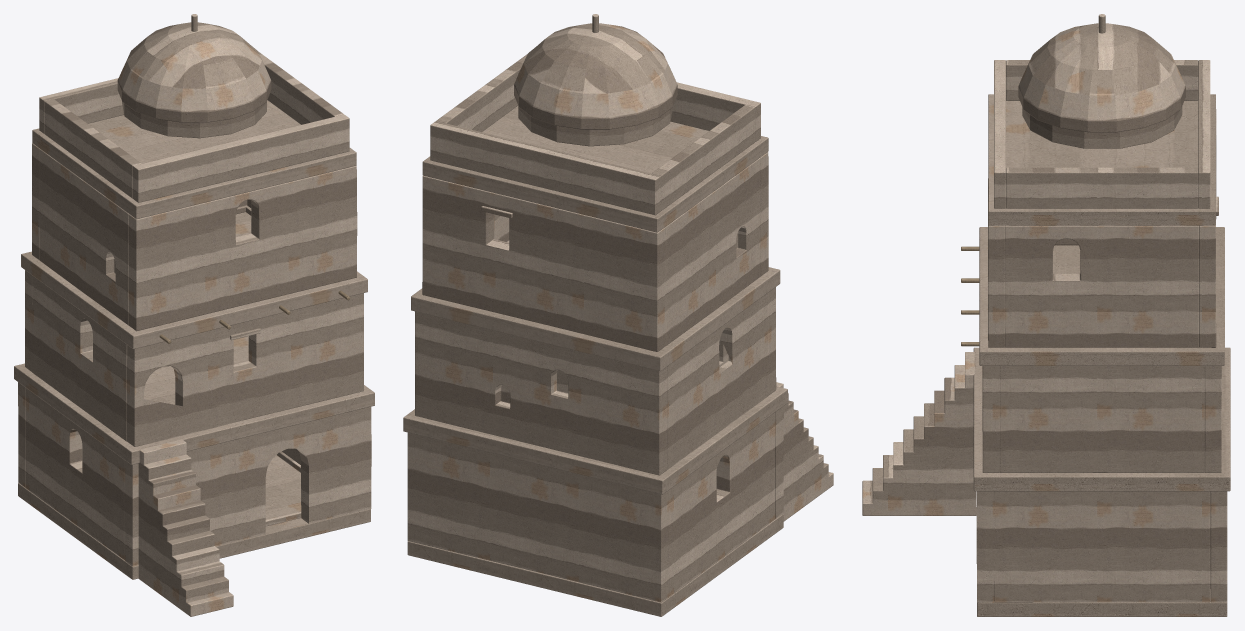
File: tower_23.glb
3 renders of one model, left to right at view 1: azimuth 30°, elevation 25°; view 2: azimuth 150°, elevation 25°; view 3: azimuth 270°, elevation 25°, orthographic. The views are drawn at different scales.
Parts seen in each view (by area): view 1: tower; view 2: tower; view 3: tower.
Part boxes in pixels (x1=…): tower: x1=14, y1=14, x2=374, y2=616; tower: x1=403, y1=14, x2=833, y2=616; tower: x1=862, y1=14, x2=1230, y2=616.
Size of the model in its own units: 7.62 by 14.77 by 9.15.
Materials: 3 (3 with a texture image).
